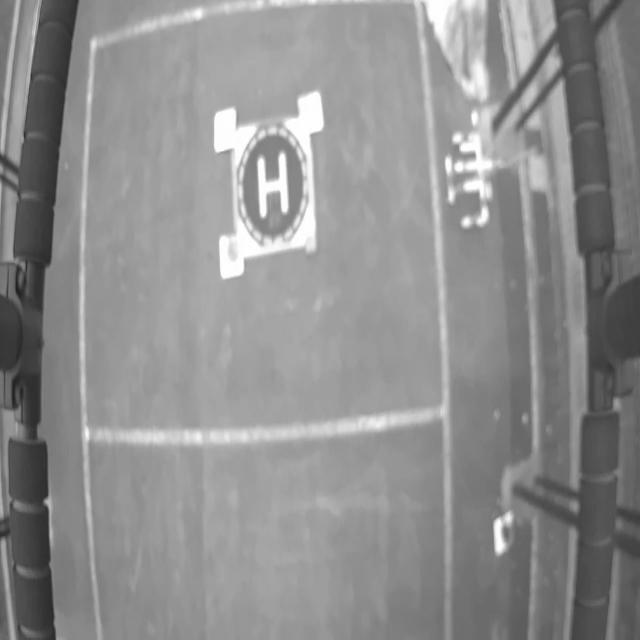Helipad: (257, 151, 290, 219)
